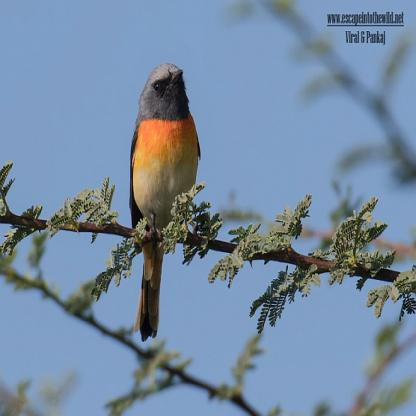Burung: (128, 63, 200, 342)
